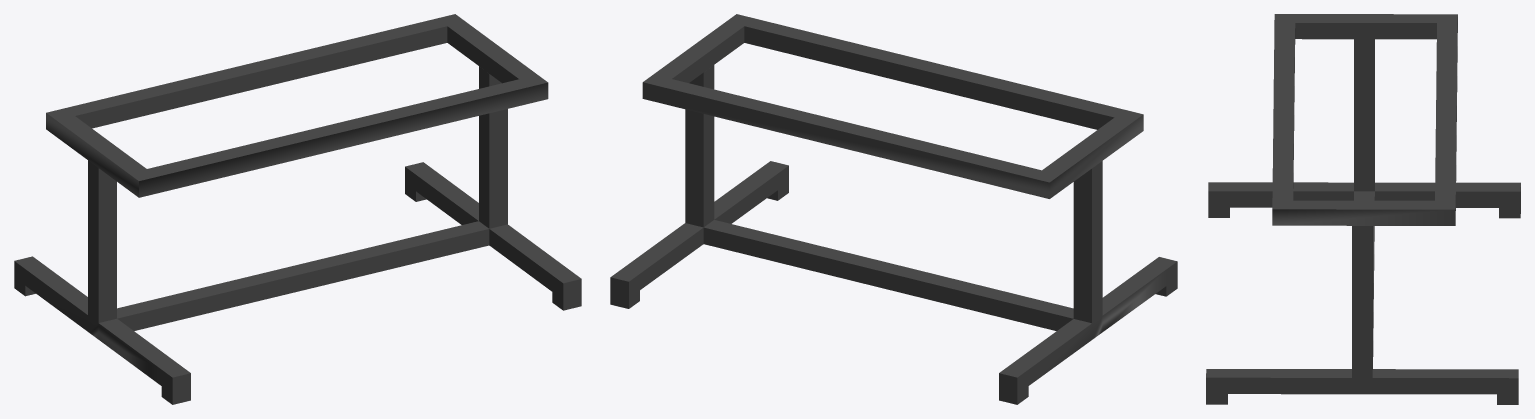
File: Bins_Stand.glb
The picture shows the model from 3 angles, left to right: view 1: azimuth 30°, elevation 25°; view 2: azimuth 150°, elevation 25°; view 3: azimuth 270°, elevation 25°; orthographic projection.
Parts seen in each view (by area): view 1: Bins_Stand; view 2: Bins_Stand; view 3: Bins_Stand.
Boxes of the visible parts, x1,y1,x2,y2 form: Bins_Stand: (14,14,581,404); Bins_Stand: (610,14,1177,404); Bins_Stand: (1206,14,1520,404).
Size of the model in its own units: 1.79 by 0.8339 by 1.22.
Materials: 1 (1 with a texture image).
